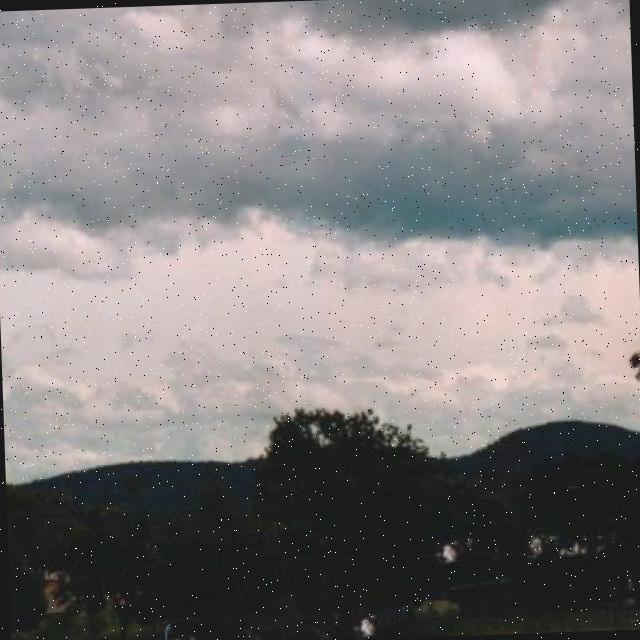Cs: (1, 1, 640, 332)
